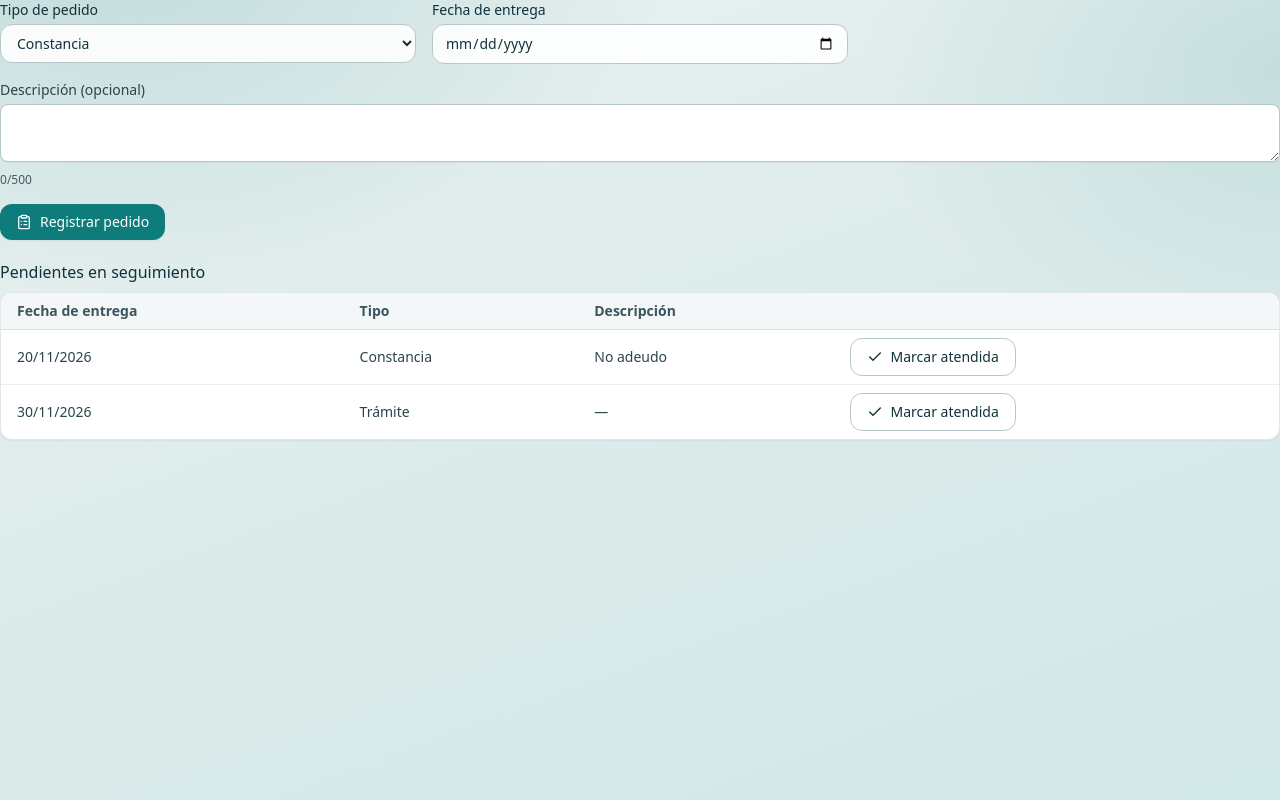
Test: Solicitudes especiales en la ficha (HU-26) › criterio 3: los pendientes se ven en seguimiento y al marcar uno atendido se recarga la lista
Expected: the text "20/11/2026" is shown, [1,330,344,384]
Expected: the text "No adeudo" is shown, [578,330,834,384]
Click the button "Marcar atendida" in the row of "20/11/2026" at (933, 357), box [850,338,1016,376]
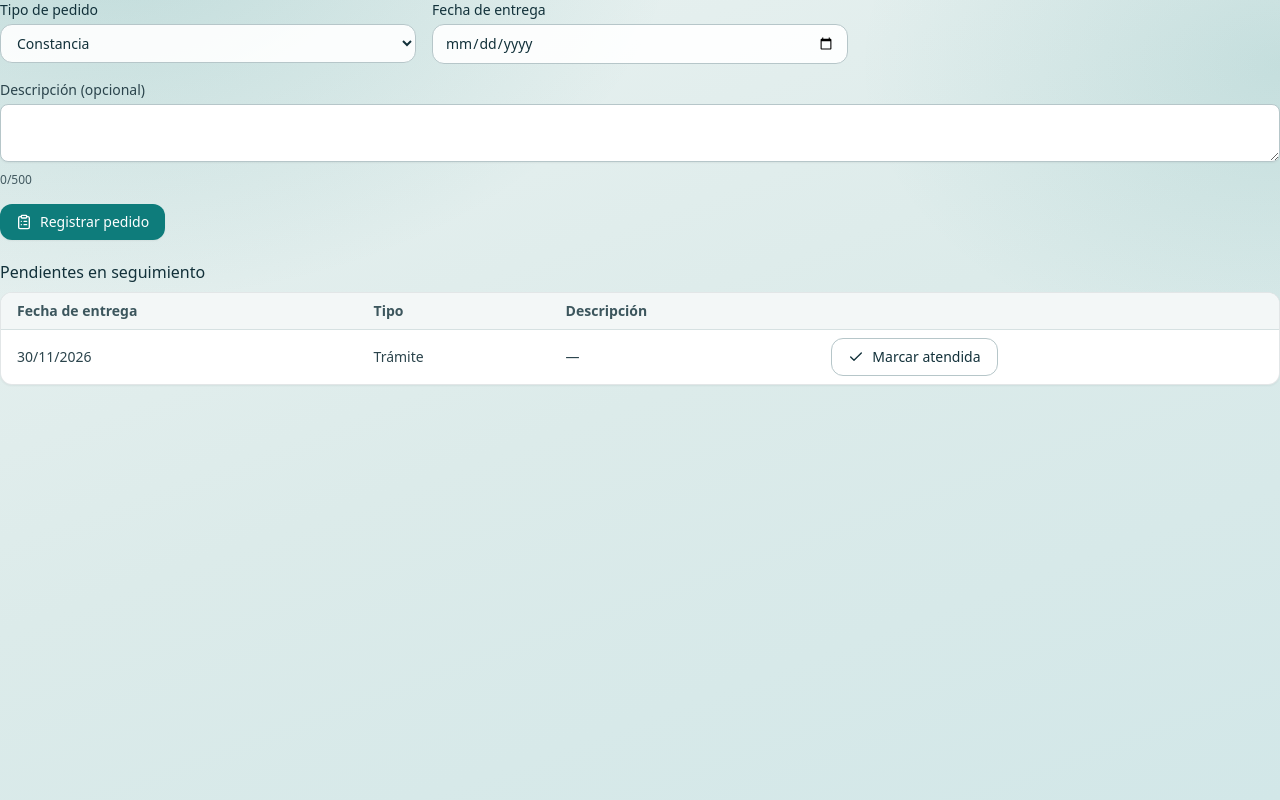
Now the text "20/11/2026" is gone
